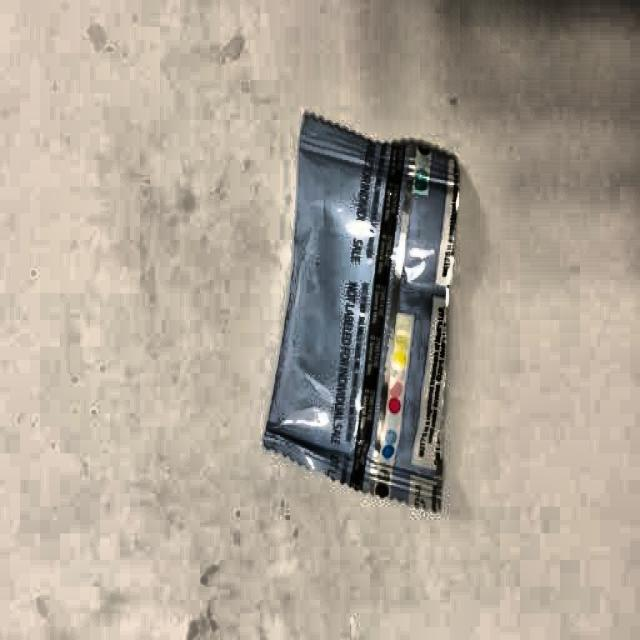trash: (263, 105, 452, 522)
